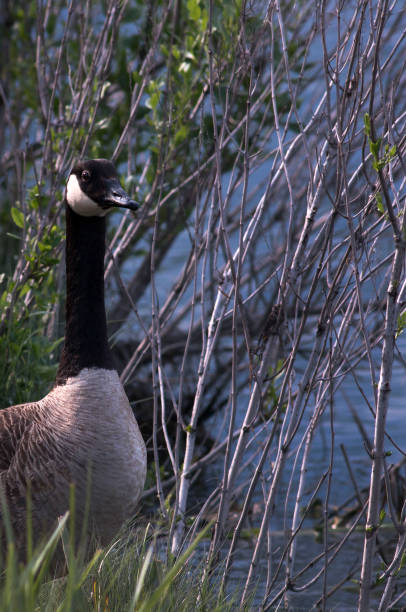goose: (1, 157, 142, 577)
